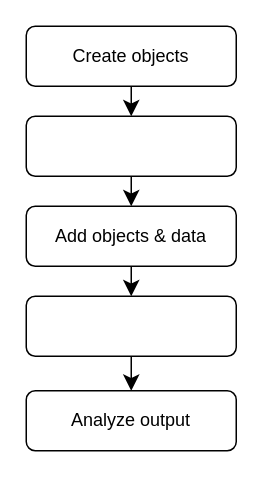
This 263x477 diagram has some shape labels left out. The shapes that lost their labels are listed below. From the top down, each one's centre as x and y in pixels, then its label:
the point at 130,145: Create data
the point at 130,325: Run time series
